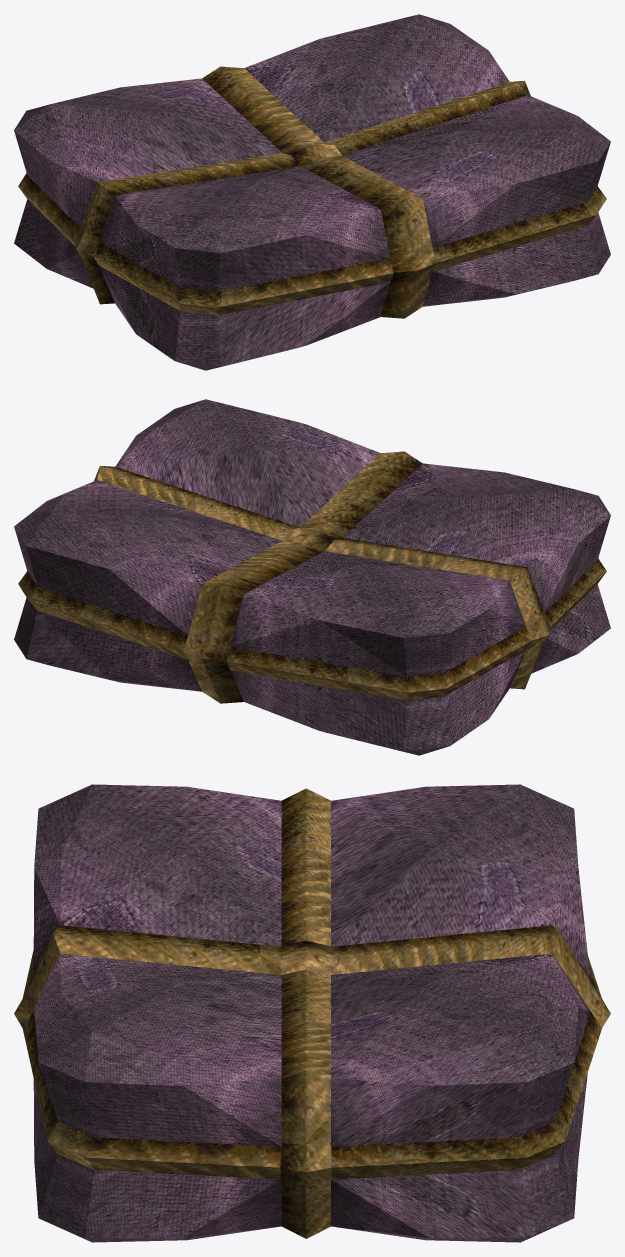
File: KM_ITMI_PACKET_03.glb
3 views of the same model, one above another, from view 1: azimuth 30°, elevation 25°; view 2: azimuth 150°, elevation 25°; view 3: azimuth 270°, elevation 25° (orthographic). The views are drawn at different scales.
Visible parts, largest first — view 1: KM_ITMI_PACKET_03; view 2: KM_ITMI_PACKET_03; view 3: KM_ITMI_PACKET_03.
Part boxes in pixels (bbox=[...]): KM_ITMI_PACKET_03: bbox=[14, 14, 610, 370]; KM_ITMI_PACKET_03: bbox=[14, 399, 610, 755]; KM_ITMI_PACKET_03: bbox=[14, 784, 610, 1242].
Size of the model in its own units: 0.4578 by 0.1414 by 0.364.
Materials: 2 (2 with a texture image).
